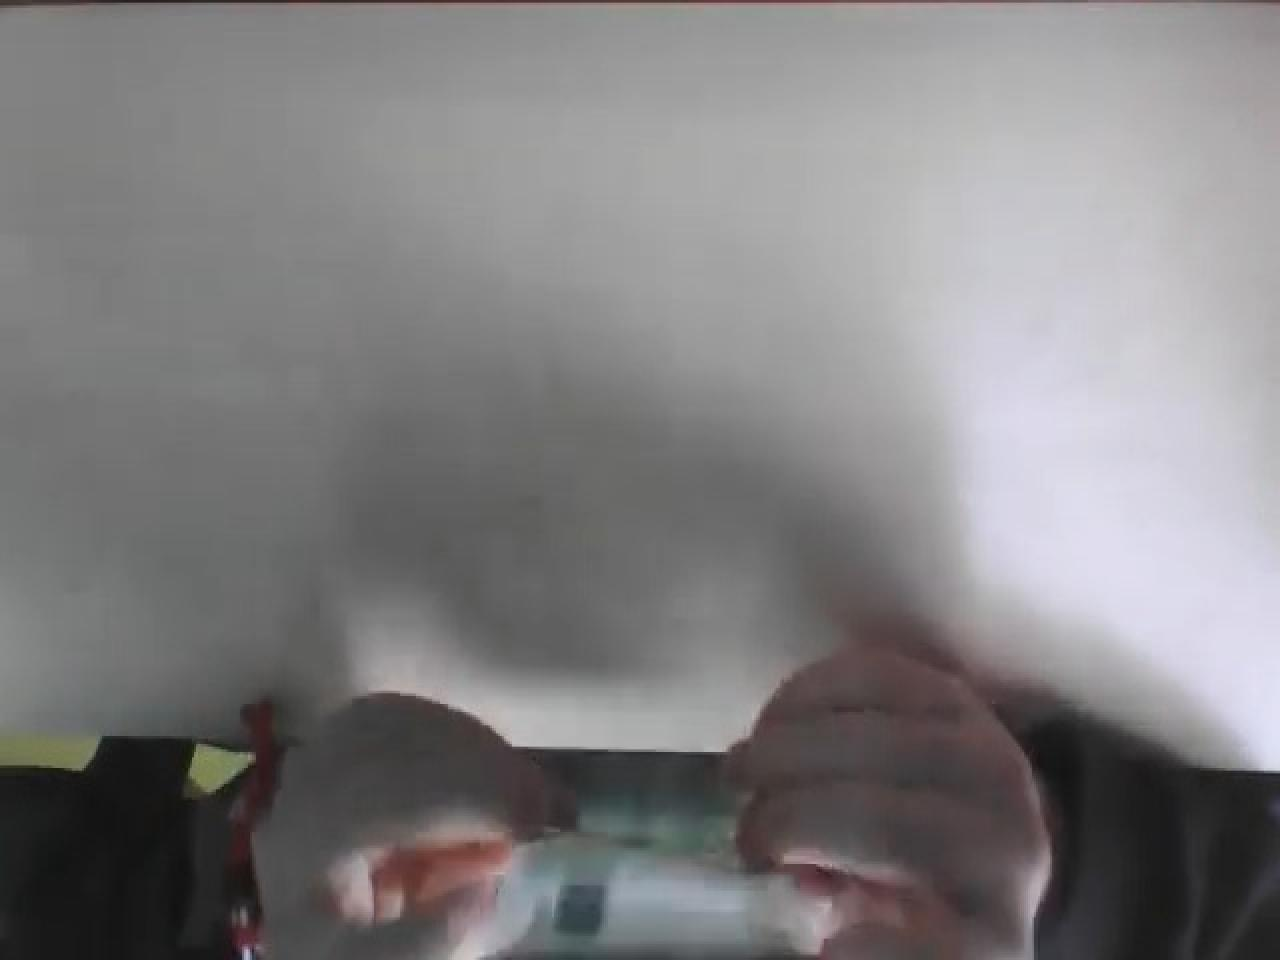100leva: (488, 824, 822, 960)
